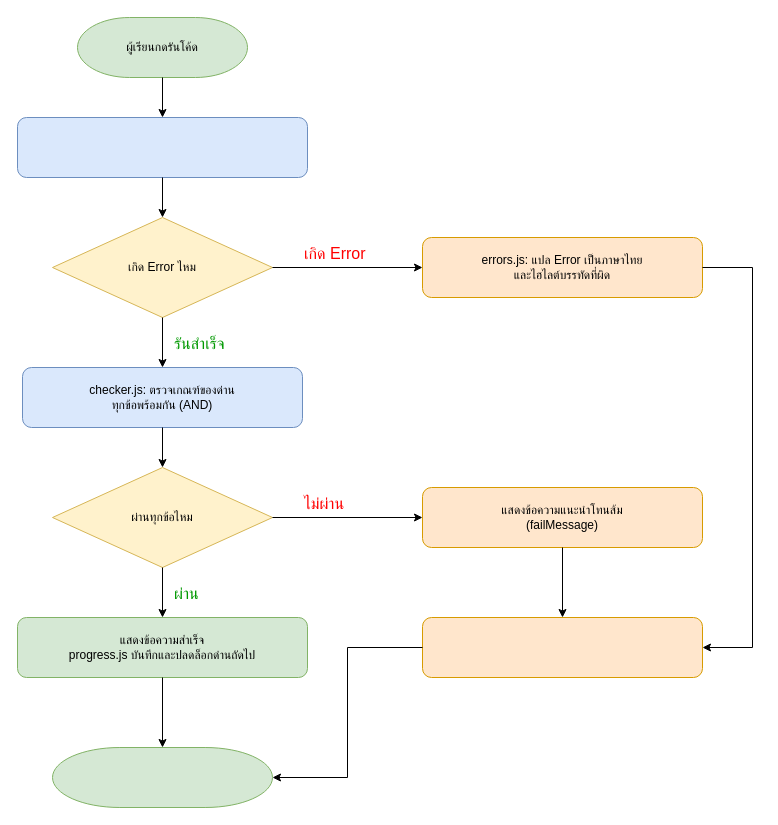
This 778x825 diagram has some shape labels left out. The centre of each missing label's shape, as x and y in pixels:
hints.js: นับความไม่ผ่านซ้ำ เปิดคำใบ้อัตโนมัติเมื่อครบกำหนด: the point at 562,647
runner.js: ทำความสะอาดโค้ด (sanitize) แล้วส่งให้ Skulpt รันในขอบเขตจำกัด: the point at 162,147
แสดงผลใน Output Panel: the point at 162,777
